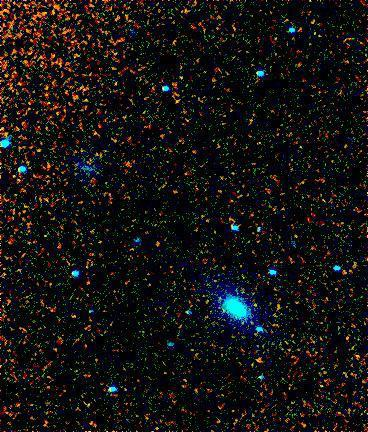star: (143, 229, 173, 259)
